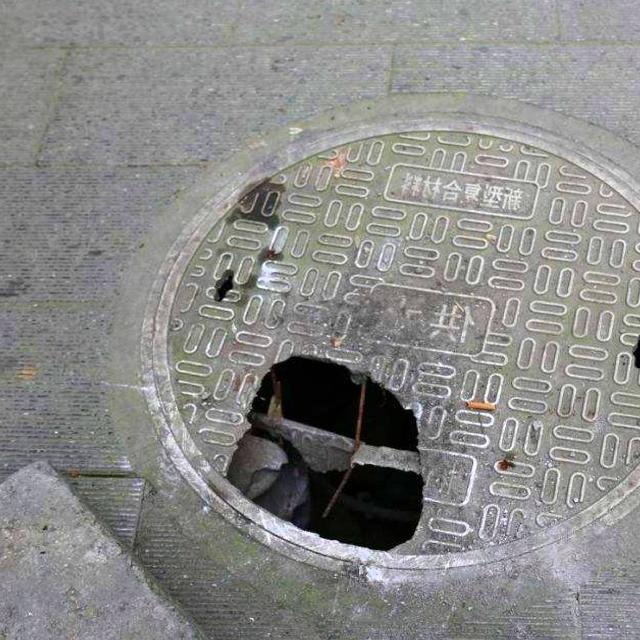broke: (139, 108, 640, 571)
